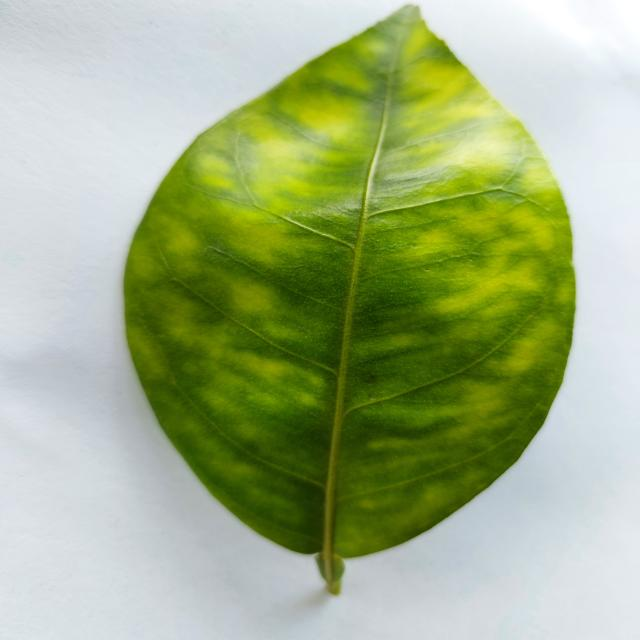greening: (125, 6, 574, 593)
